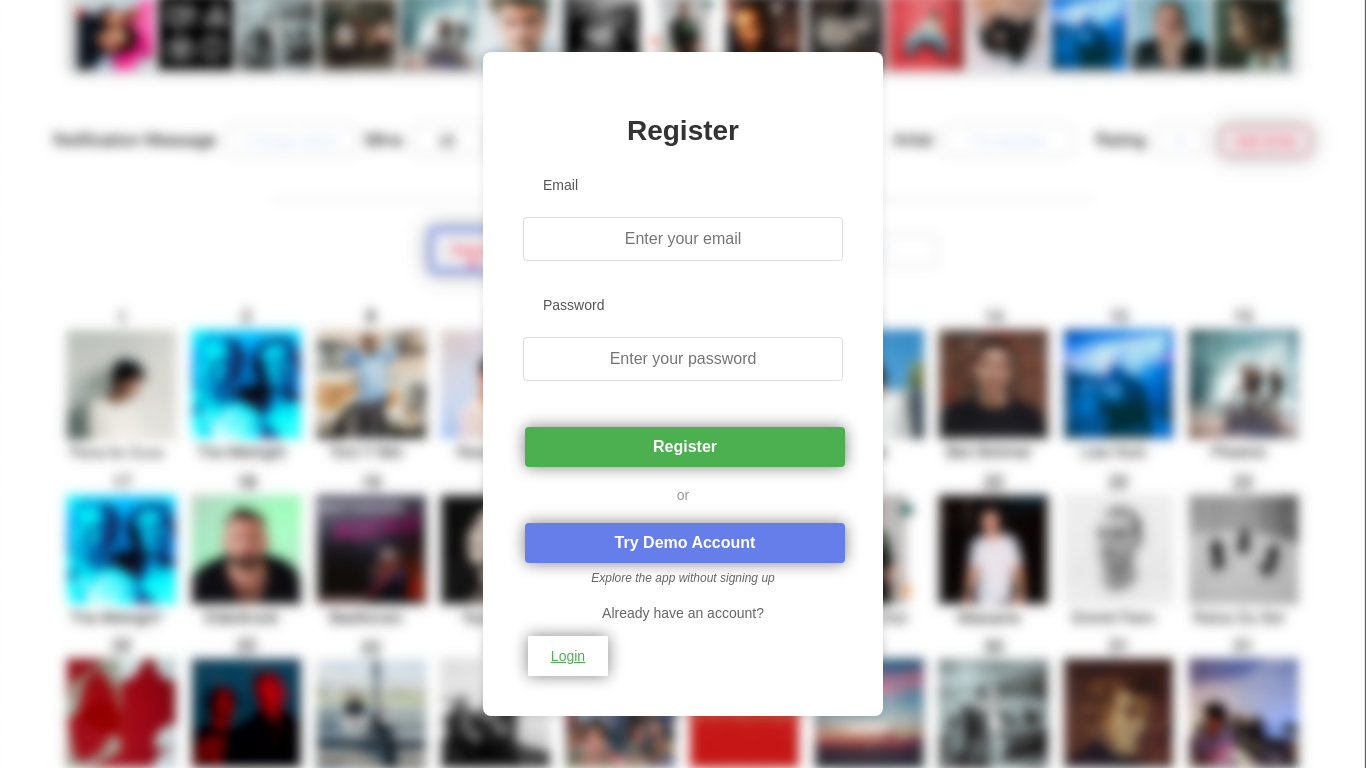
Test: Auth › demo login › shows an error when demo login returns no token
What coordinates should you click on to do the following:
click the button "Try Demo Account"
I would click on:
 (685, 543)
Its box is x1=525 y1=523 x2=845 y2=563.
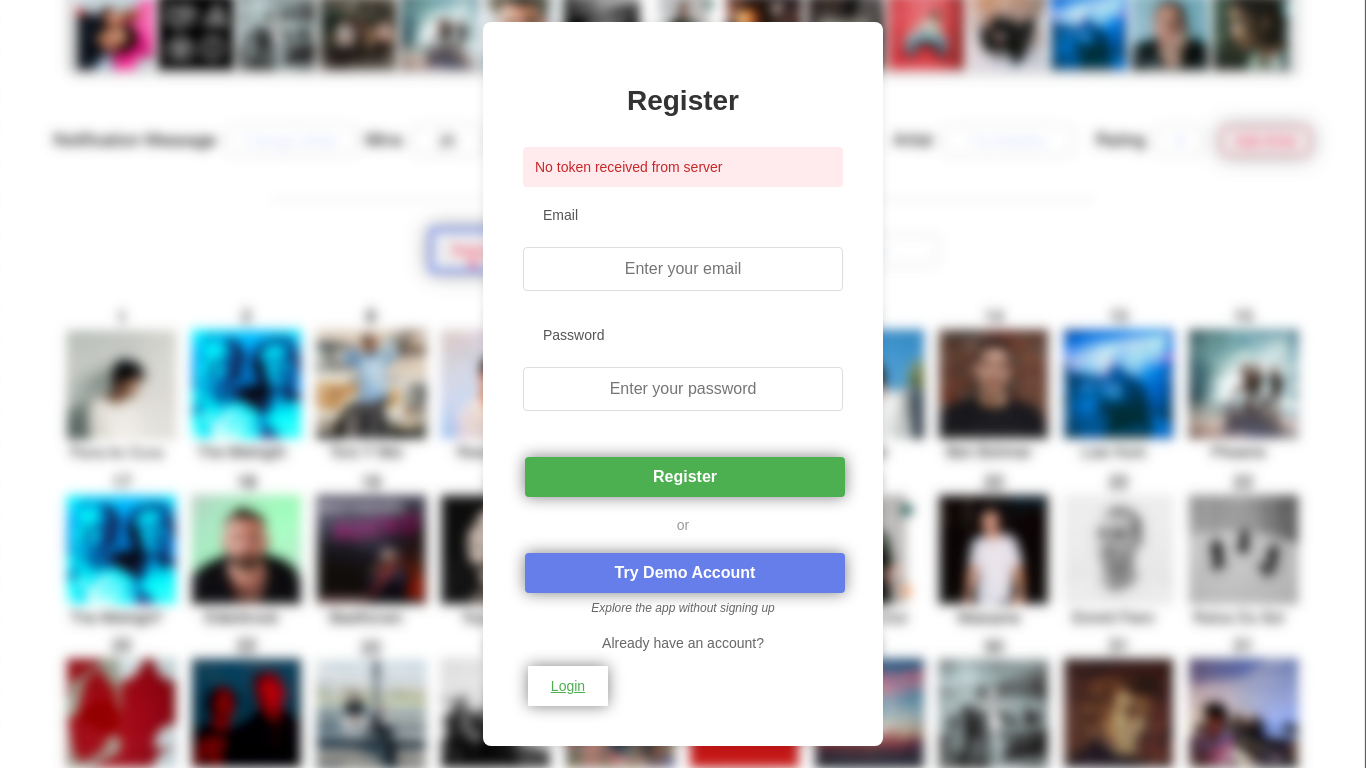
Expected: the text "No token received from server" is shown, x1=523 y1=147 x2=843 y2=187
